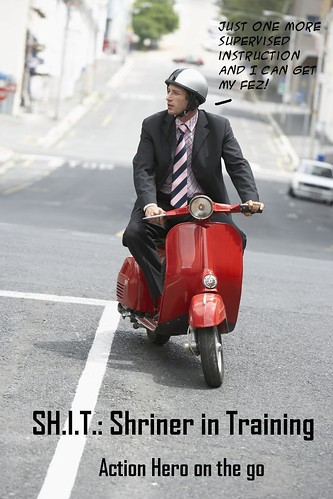helmet: (168, 53, 213, 86)
